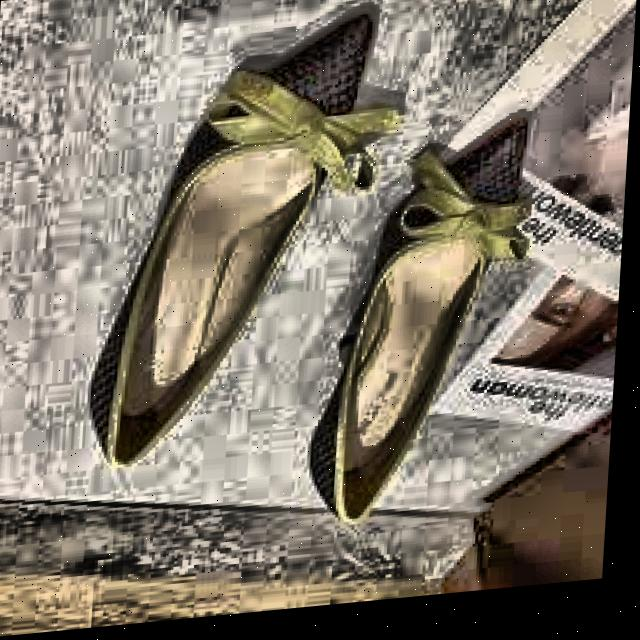shoes: (71, 0, 543, 551)
